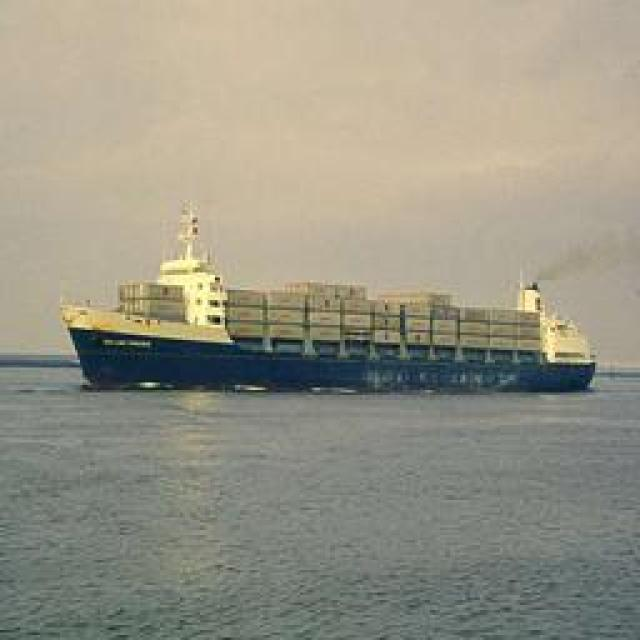ship: (52, 210, 608, 398)
